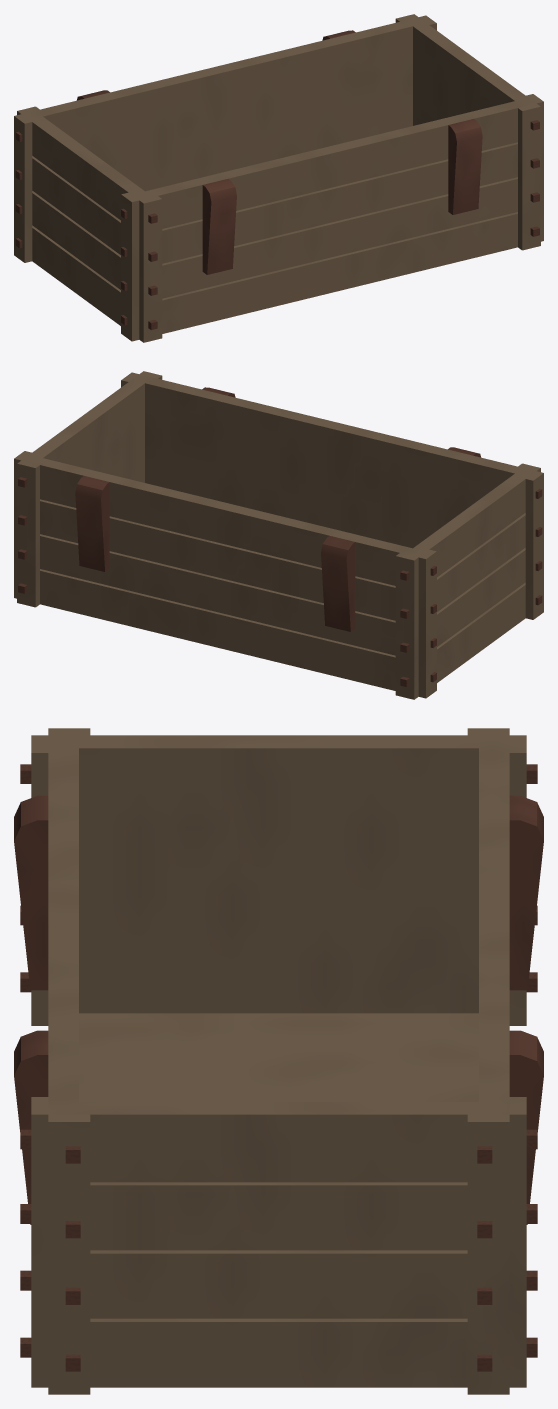
The model's file is BoxOpen1.fbx.
3 renders of one model, top to bottom at view 1: azimuth 30°, elevation 25°; view 2: azimuth 150°, elevation 25°; view 3: azimuth 270°, elevation 25°, orthographic. The views are drawn at different scales.
Visible parts, largest first — view 1: Cube.025; view 2: Cube.025; view 3: Cube.025.
Part boxes in pixels (box(x1,y1,x2,y2)): Cube.025: box(14, 14, 543, 342); Cube.025: box(14, 371, 543, 699); Cube.025: box(14, 728, 543, 1394).
Bounding box in the file's own units: 148 × 47.02 × 82.8.
